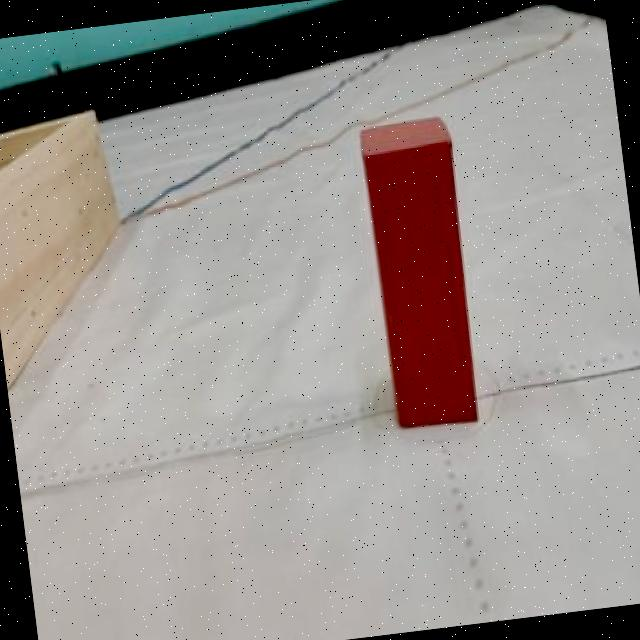redbox: (355, 112, 484, 431)
